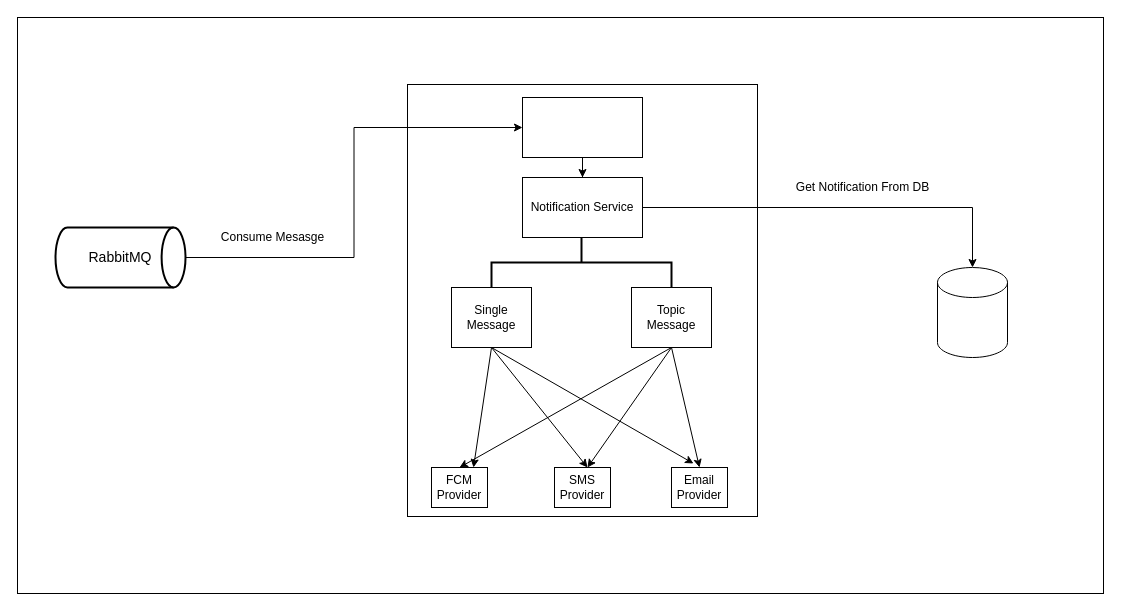
The diagram is 1121 pixels wide and 611 high, and some of its shapes have lost their labels. The centre of each missing label's shape, as x and y in pixels:
"Consumer" goes at pixel 582 127.
"MongoDB" goes at pixel 972 312.
